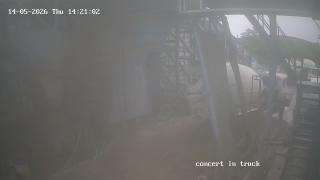cement_mixer_truck: (188, 60, 293, 126)
